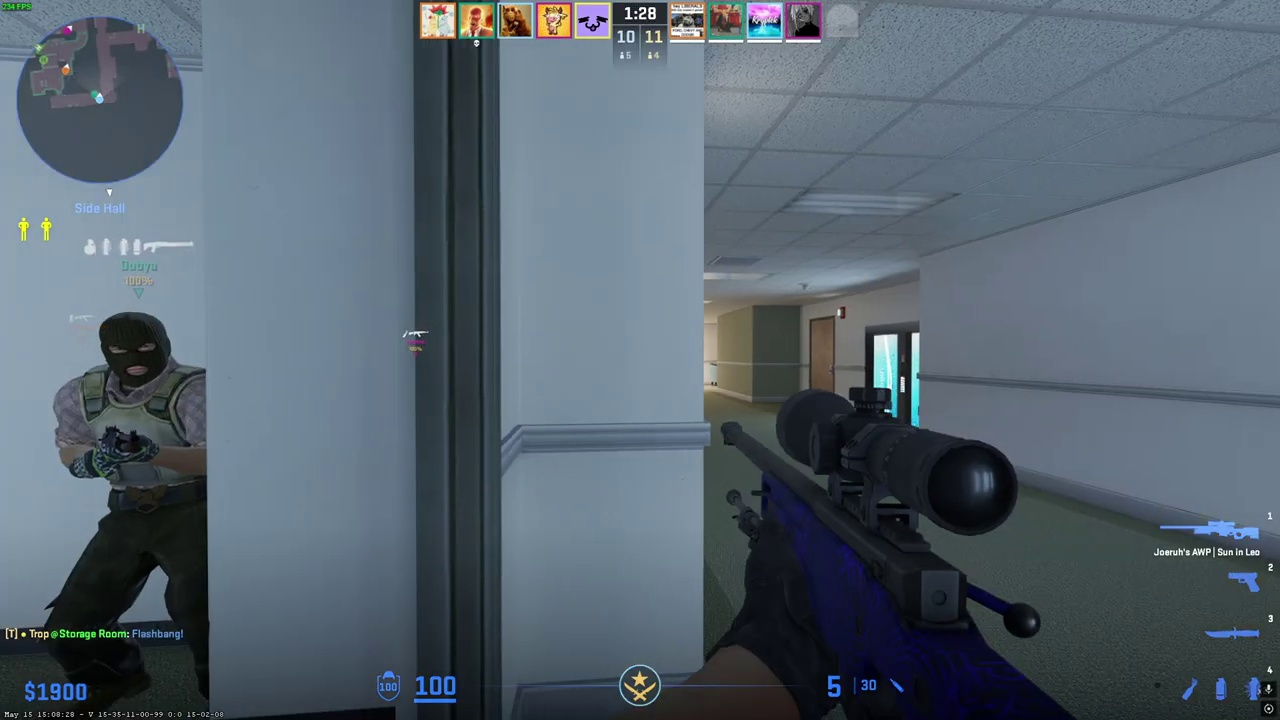Terrorist: (41, 312, 208, 720)
